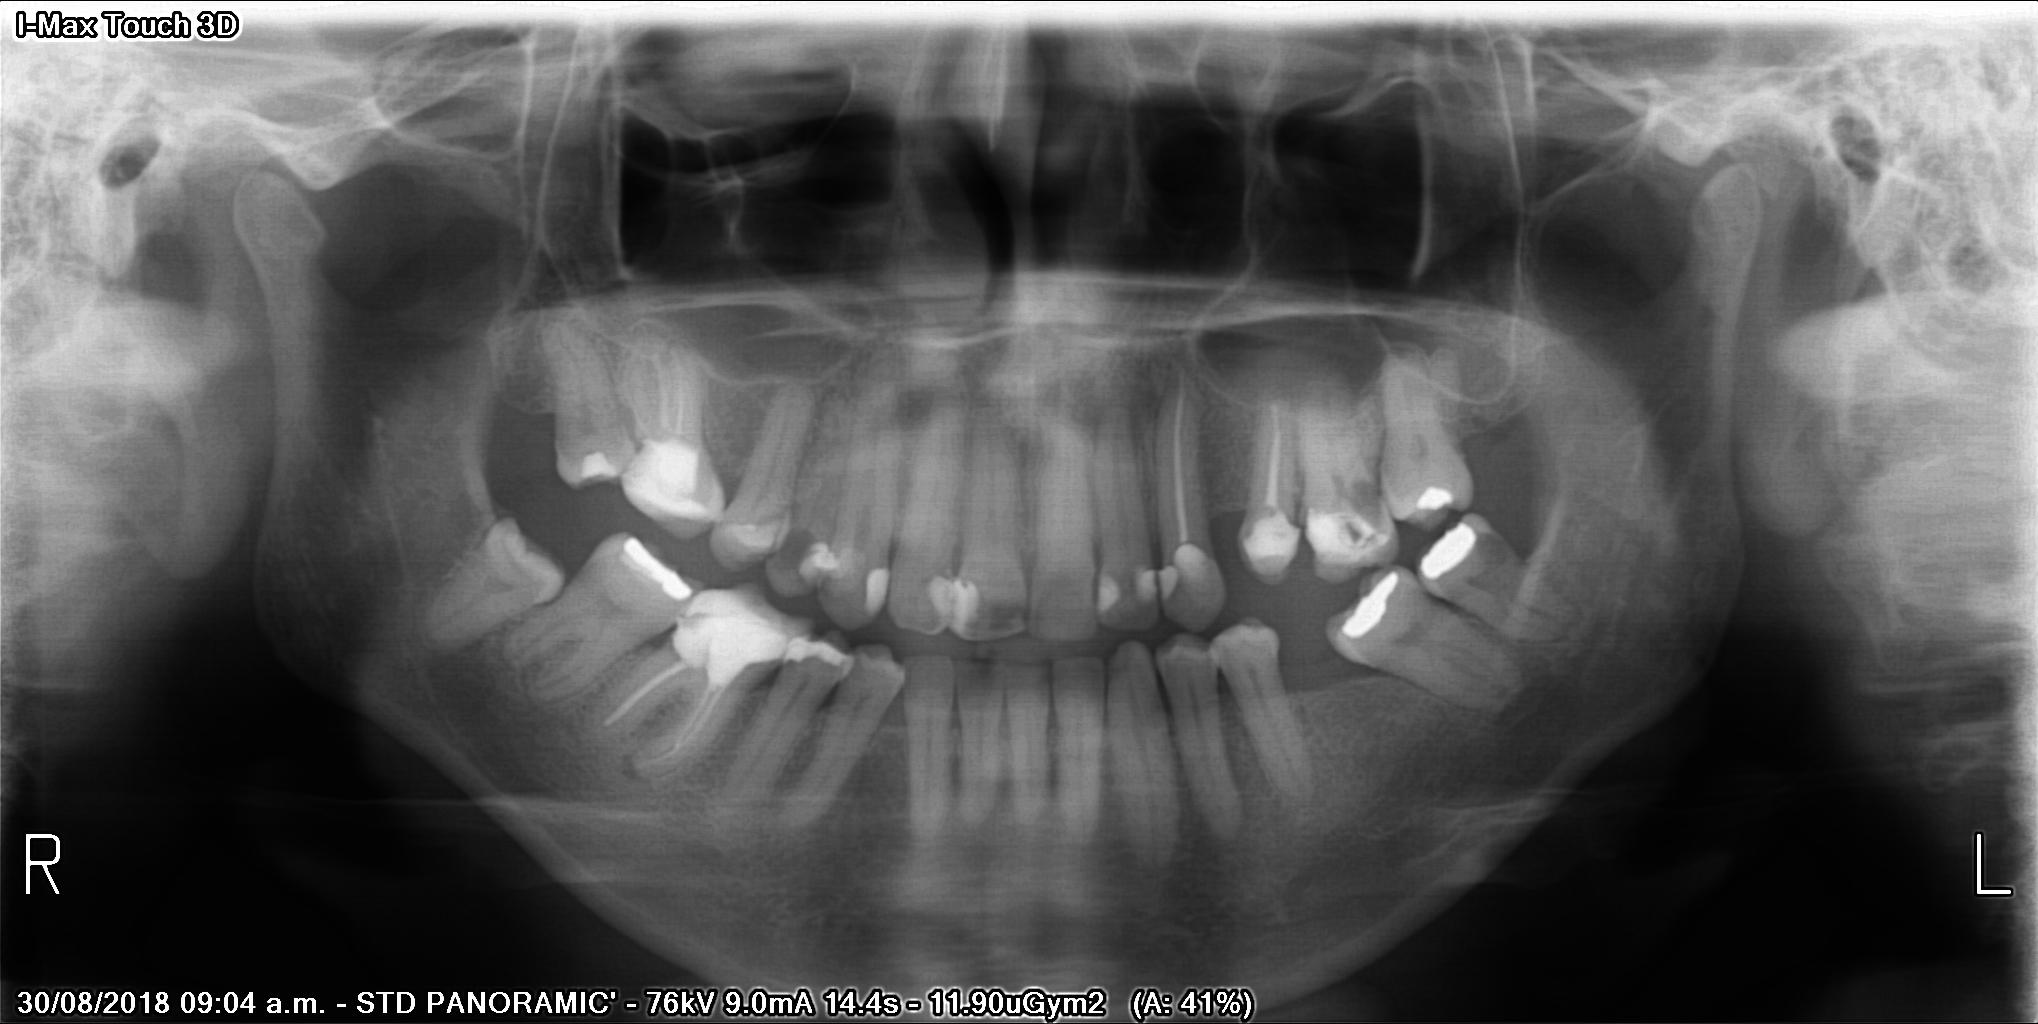Çürük: (674, 590, 790, 677), (623, 431, 715, 511), (614, 536, 698, 609), (1333, 572, 1407, 640), (1306, 515, 1387, 563), (1418, 521, 1481, 576), (920, 573, 980, 630), (806, 539, 859, 598), (789, 630, 859, 674), (1246, 519, 1300, 569), (1175, 552, 1232, 601), (859, 567, 892, 614), (1415, 486, 1453, 516), (1099, 579, 1116, 613), (1141, 568, 1155, 606), (1158, 567, 1175, 598)
Çürük Bölgesi: (1347, 482, 1400, 526), (1477, 525, 1518, 572), (978, 602, 1035, 635), (776, 528, 811, 568), (1342, 516, 1367, 546)
